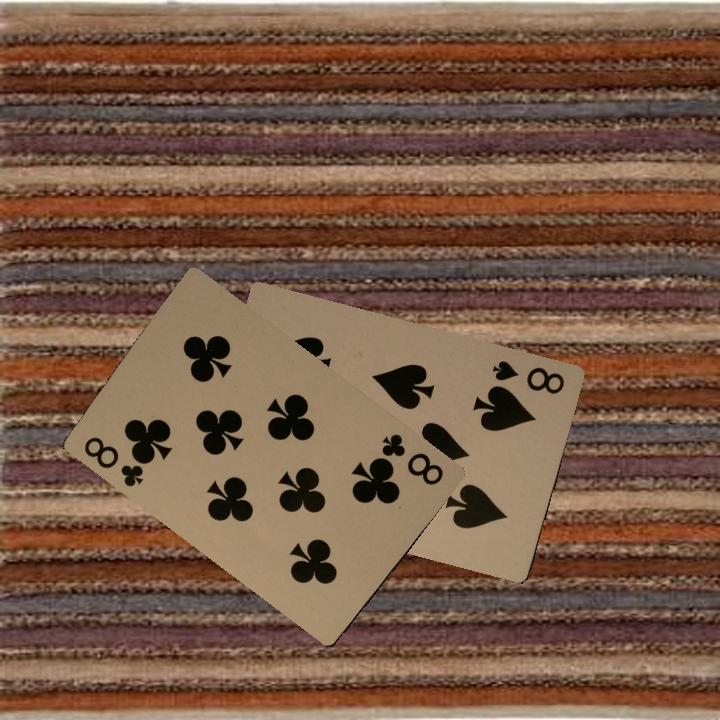8c: (79, 432, 151, 490), (377, 429, 446, 488)
8s: (489, 356, 567, 397)
